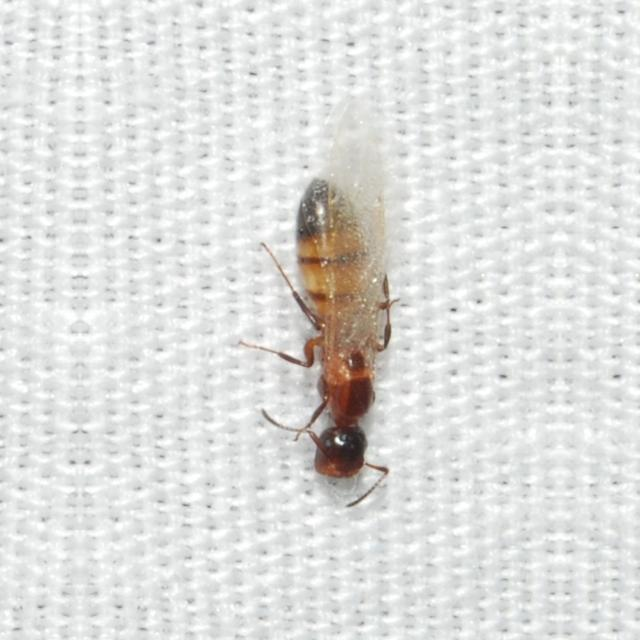Colobopsis: (263, 152, 413, 510)
